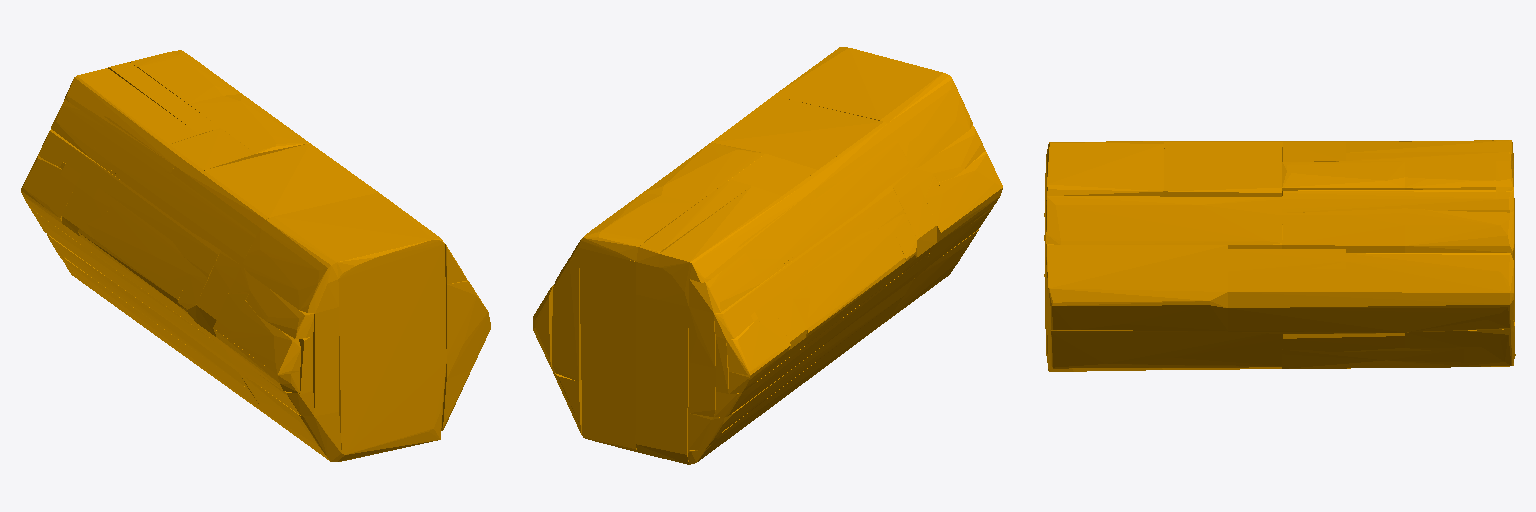
The robot description file, URDF, robot "box-koala":
<?xml version="1.0" ?>
<robot name="box-koala">
  <link name="baseLink">
    <contact>
      <lateral_friction value="1.0"/>
      <inertia_scaling value="3.0"/>
    </contact>
    <inertial>
      <origin rpy="0 0 0" xyz="0.000 0.000 0.000"/>
       <mass value=".1"/>
       <inertia ixx="1" ixy="0.0" ixz="0.0" iyy="1" iyz="0.0" izz="1"/>
    </inertial>
    <visual>
      <origin rpy="0 0 0" xyz="0 0 0"/>
      <geometry>
        <mesh filename="box/box-koala.obj" scale="1.0 1.0 1.0"/>
      </geometry>
    </visual>
    <collision>
      <origin rpy="0 0 0" xyz="0 0 0"/>
      <geometry>
        <mesh filename="../collision/box/box-koala.obj" scale="1.0 1.0 1.0"/>
      </geometry>
    </collision>
  </link>
</robot>
        

--- Facts derived from the render (not from the file) ---
Views: 3 orthographic renders of the robot side by side, from view 1: azimuth 30°, elevation 25°; view 2: azimuth 150°, elevation 25°; view 3: azimuth 270°, elevation 25°.
Model box-koala with 1 links and 0 joints (none), rooted at baseLink, posed all joints at 0.
Visible links, largest first — view 1: baseLink; view 2: baseLink; view 3: baseLink.
Link boxes in pixels (left/top/right/bottom): baseLink: left=21, top=50, right=490, bottom=461; baseLink: left=533, top=47, right=1002, bottom=464; baseLink: left=1044, top=140, right=1515, bottom=371.
Size in the robot's own frame: 0.0702 by 0.1445 by 0.063 metres.
Meshes: 1 distinct files referenced, 1 mesh visuals loaded (1 OBJ).